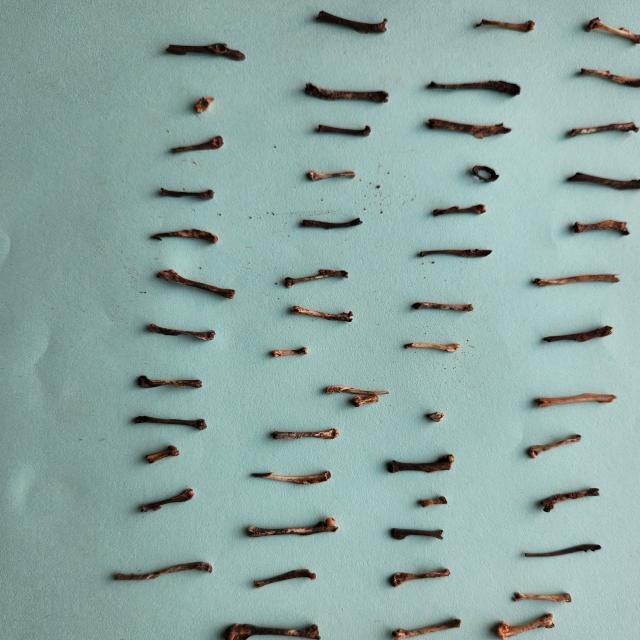fossil: (150, 265, 240, 305), (240, 514, 348, 546), (107, 558, 220, 586), (298, 79, 392, 111), (303, 8, 397, 38), (131, 481, 205, 519), (160, 36, 250, 66), (420, 114, 516, 142), (422, 76, 530, 100), (139, 317, 225, 347), (122, 371, 224, 395), (383, 450, 459, 482), (220, 617, 322, 640), (536, 322, 618, 350), (578, 12, 640, 49), (491, 610, 566, 640), (143, 222, 227, 248), (246, 466, 340, 489), (534, 484, 606, 514), (559, 168, 640, 194), (472, 10, 542, 40), (277, 264, 357, 290), (126, 411, 225, 432), (574, 64, 640, 94), (528, 270, 627, 290), (529, 389, 621, 410), (164, 134, 238, 160), (388, 616, 468, 640), (523, 432, 587, 461), (248, 565, 322, 590), (294, 212, 368, 236), (285, 302, 359, 326), (560, 118, 640, 140), (520, 540, 606, 560), (128, 443, 196, 468), (566, 214, 636, 238), (384, 565, 454, 587), (268, 424, 344, 444), (412, 245, 500, 262), (405, 296, 479, 316), (152, 183, 222, 204), (312, 120, 378, 142), (401, 335, 463, 357), (304, 164, 362, 186), (508, 588, 578, 606), (427, 202, 492, 220), (182, 93, 226, 119), (316, 383, 396, 397), (388, 525, 457, 541), (262, 344, 318, 361), (468, 163, 502, 184), (417, 492, 451, 510), (347, 394, 385, 408), (424, 408, 450, 426)
